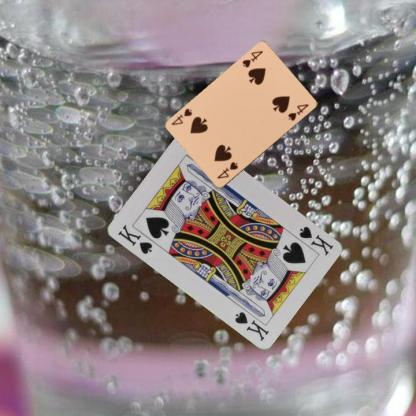4s: (240, 48, 264, 69), (214, 160, 239, 180)
Ks: (297, 223, 335, 257), (116, 222, 154, 255)
